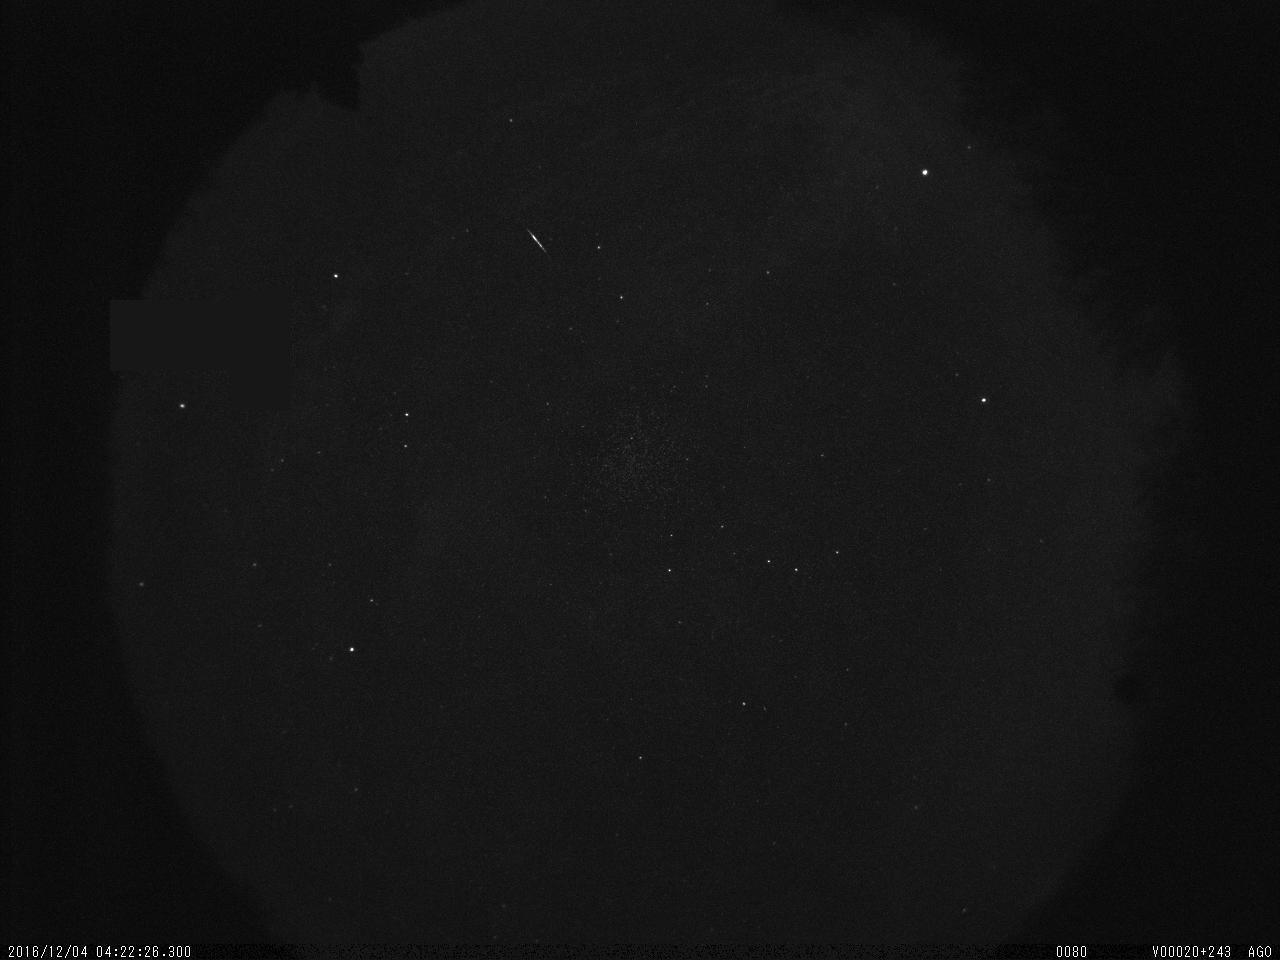Meteor: (525, 225, 549, 254)
